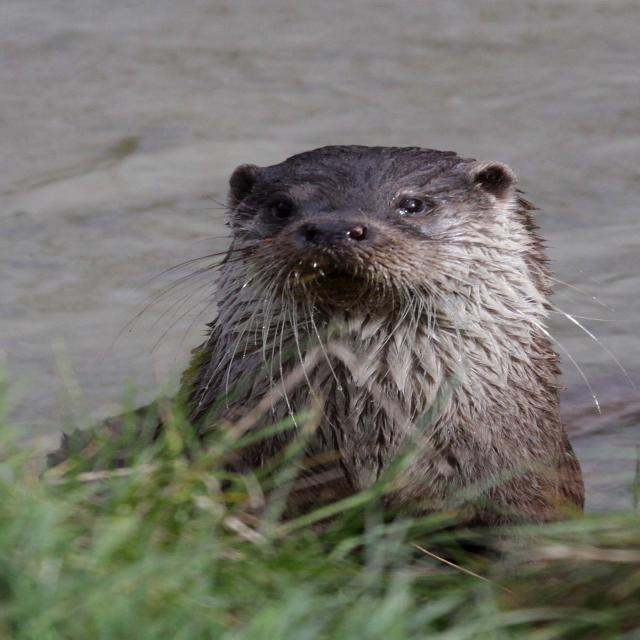otter: (177, 145, 585, 524)
